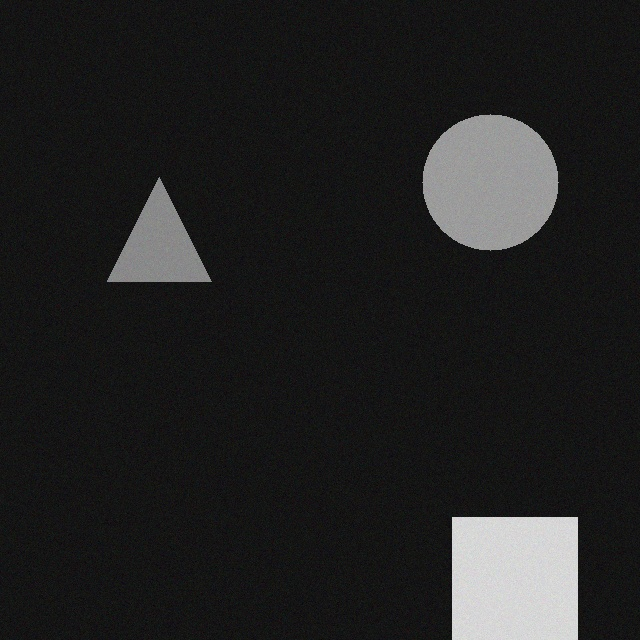circle: (436, 112, 572, 248)
square: (466, 515, 591, 640)
triangle: (121, 175, 225, 279)
